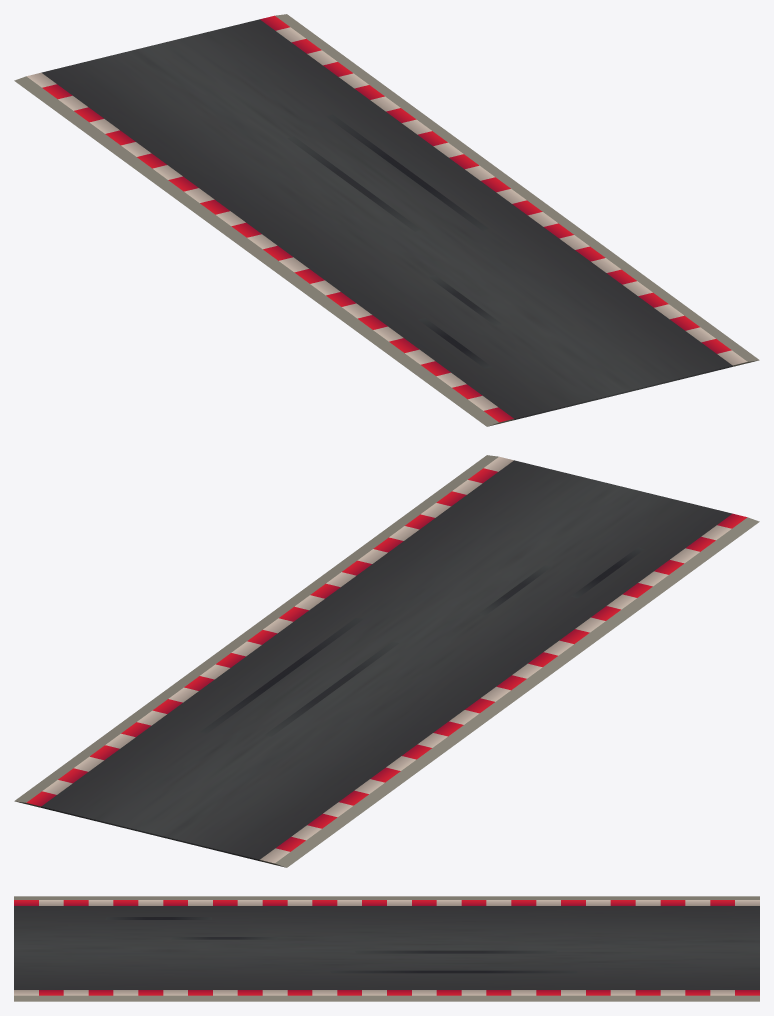
The model's file is Straight_1E_Long.fbx.
3 renders of one model, top to bottom at view 1: azimuth 30°, elevation 25°; view 2: azimuth 150°, elevation 25°; view 3: azimuth 270°, elevation 25°, orthographic. The views are drawn at different scales.
Parts seen in each view (by area): view 1: Straight_1E_Long, Straight_1E_Long_Skidmarks; view 2: Straight_1E_Long, Straight_1E_Long_Skidmarks; view 3: Straight_1E_Long, Straight_1E_Long_Skidmarks.
Boxes of the visible parts, <box> form: Straight_1E_Long: <box>14,14,759,426</box>; Straight_1E_Long_Skidmarks: <box>287,114,501,368</box>; Straight_1E_Long: <box>14,455,759,867</box>; Straight_1E_Long_Skidmarks: <box>200,547,644,736</box>; Straight_1E_Long: <box>14,896,759,1001</box>; Straight_1E_Long_Skidmarks: <box>105,917,577,973</box>.
Bounding box in the file's own units: 2000 × 10.85 × 6000.
